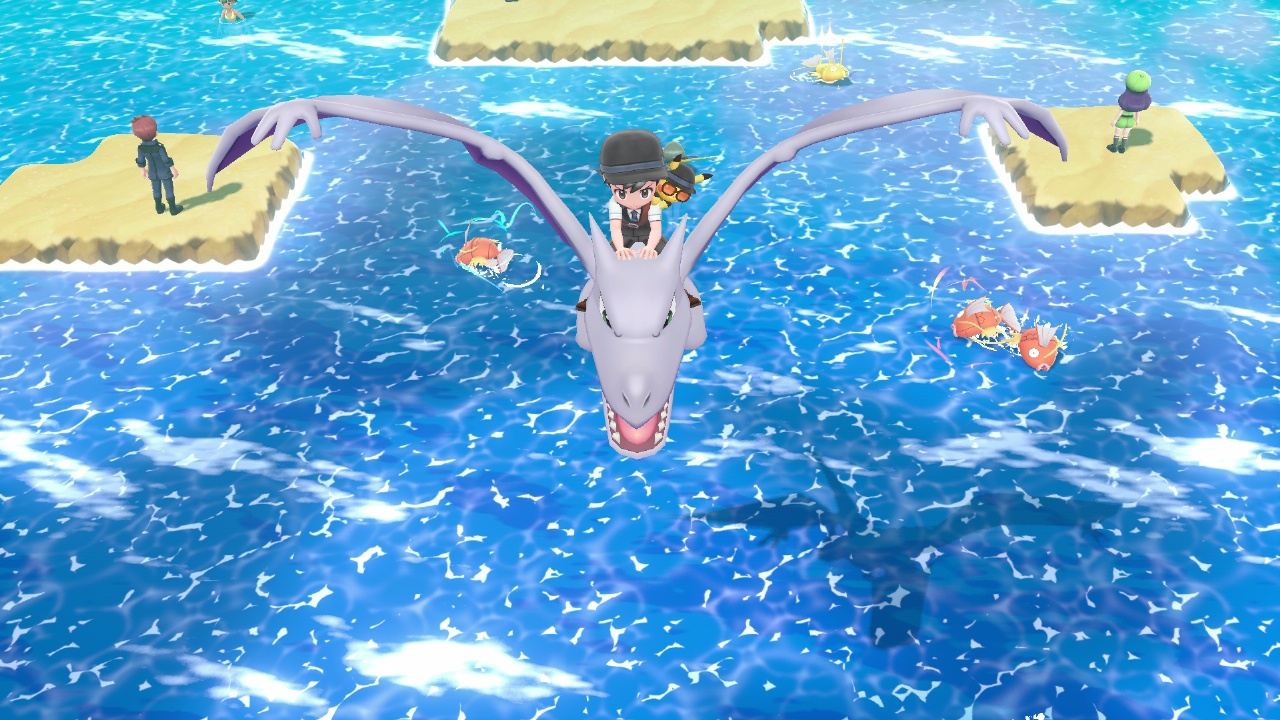Golden: (802, 54, 852, 85)
Red: (950, 297, 1015, 341), (1018, 317, 1067, 372), (456, 236, 513, 274)
